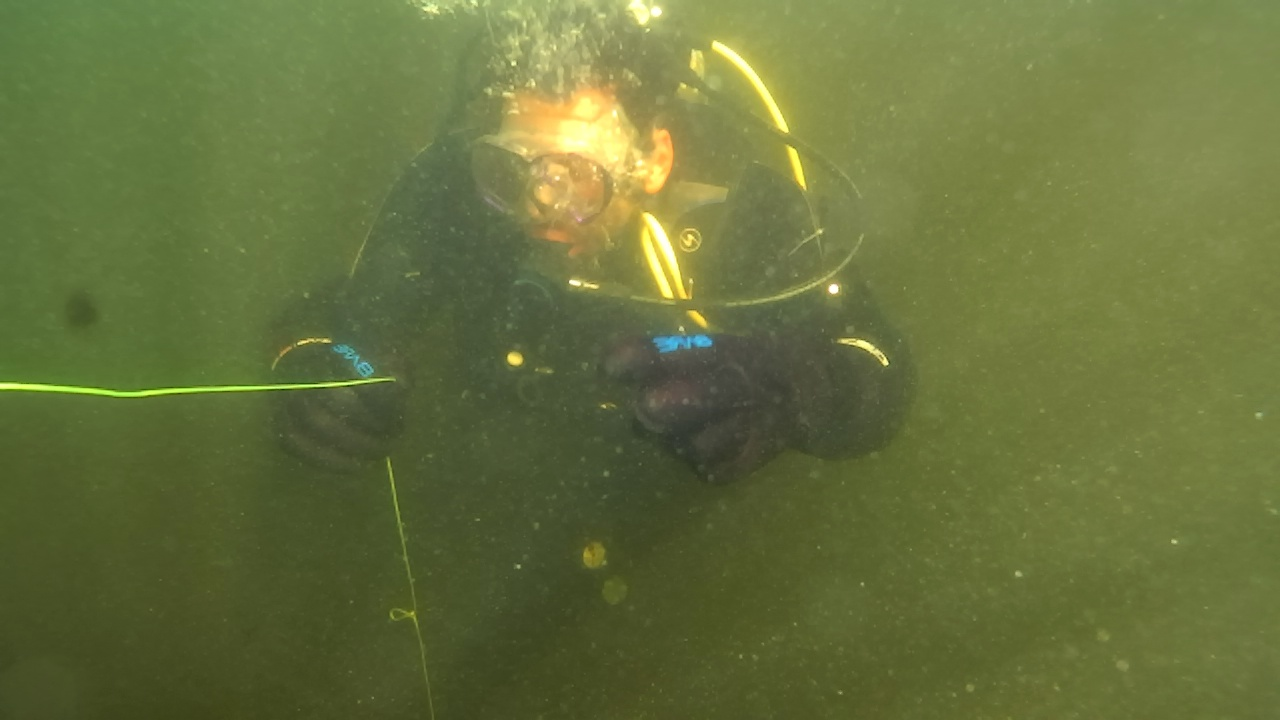Diver: (246, 6, 940, 514)
Hand: (590, 316, 808, 486), (256, 284, 430, 492)
Head: (428, 8, 706, 336)
